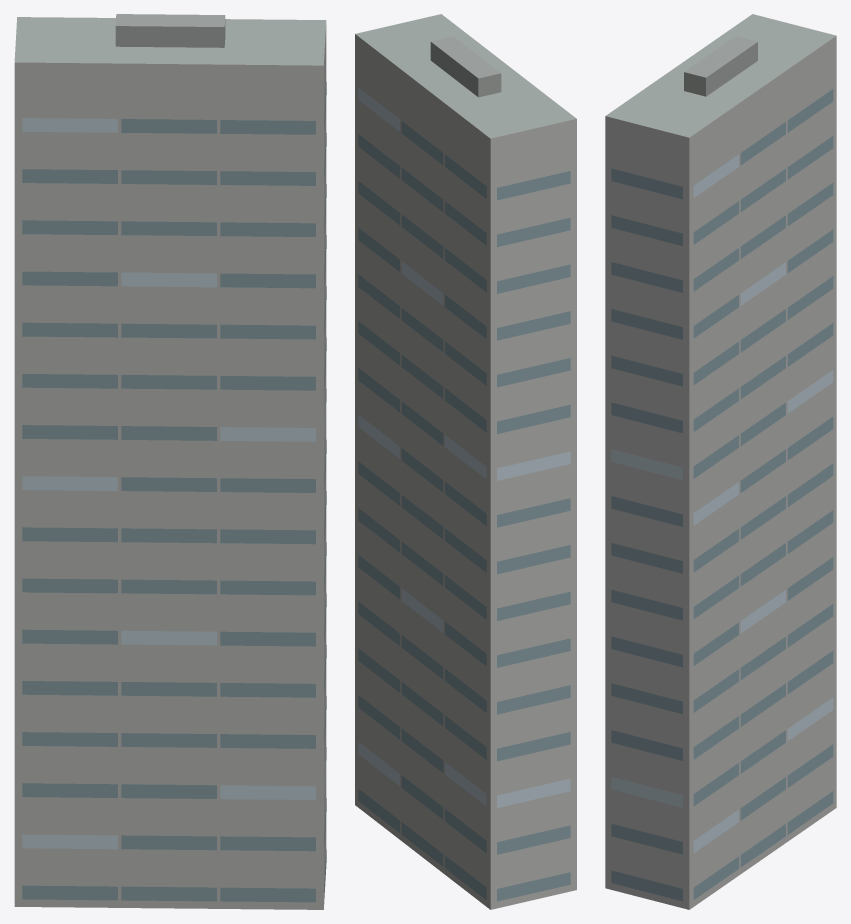
Rendered from fallback-jamsil-ricenz-260.glb.
3 renders of one model, left to right at view 1: azimuth 30°, elevation 25°; view 2: azimuth 150°, elevation 25°; view 3: azimuth 270°, elevation 25°, orthographic. The views are drawn at different scales.
Visible parts, largest first — view 1: fallback-jamsil-ricenz-260; view 2: fallback-jamsil-ricenz-260; view 3: fallback-jamsil-ricenz-260.
Part boxes in pixels (x1,y1,x2,y2): fallback-jamsil-ricenz-260: (14,14,326,909); fallback-jamsil-ricenz-260: (355,14,576,909); fallback-jamsil-ricenz-260: (605,14,836,909).
Bounding box in the file's own units: 33.54 × 100 × 26.49.
